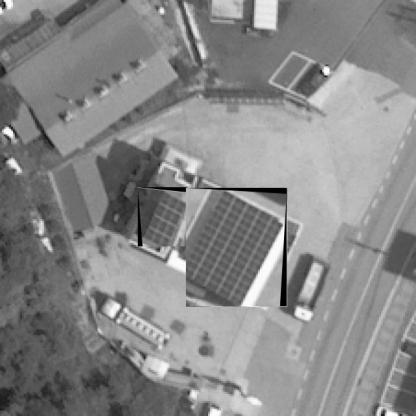solar-pv-panel: (186, 190, 286, 306), (141, 190, 187, 246)
